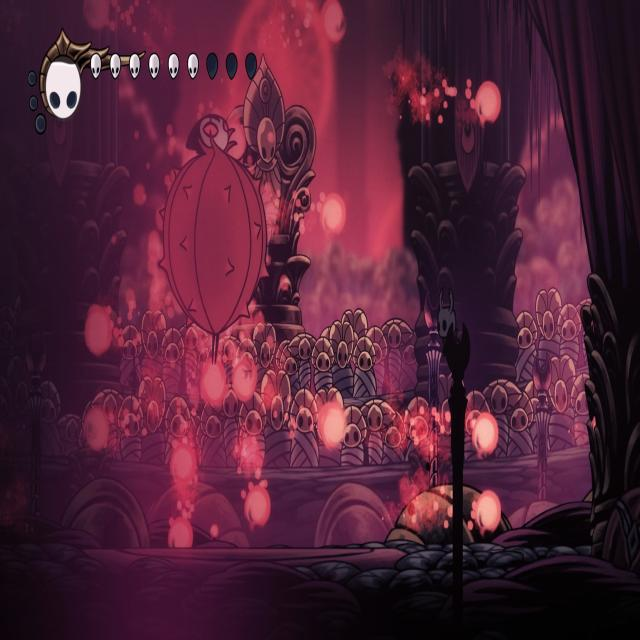Player: (435, 282, 461, 359)
Pufferfish: (154, 108, 270, 374)
Tiny Fireballs: (86, 305, 114, 356), (318, 402, 347, 448), (201, 361, 229, 408), (476, 81, 503, 126), (85, 406, 111, 451), (476, 492, 502, 536), (170, 441, 196, 485), (244, 486, 271, 528), (234, 358, 258, 404), (475, 412, 499, 457), (323, 0, 346, 43), (167, 514, 195, 548), (324, 194, 346, 234), (85, 0, 112, 31)
